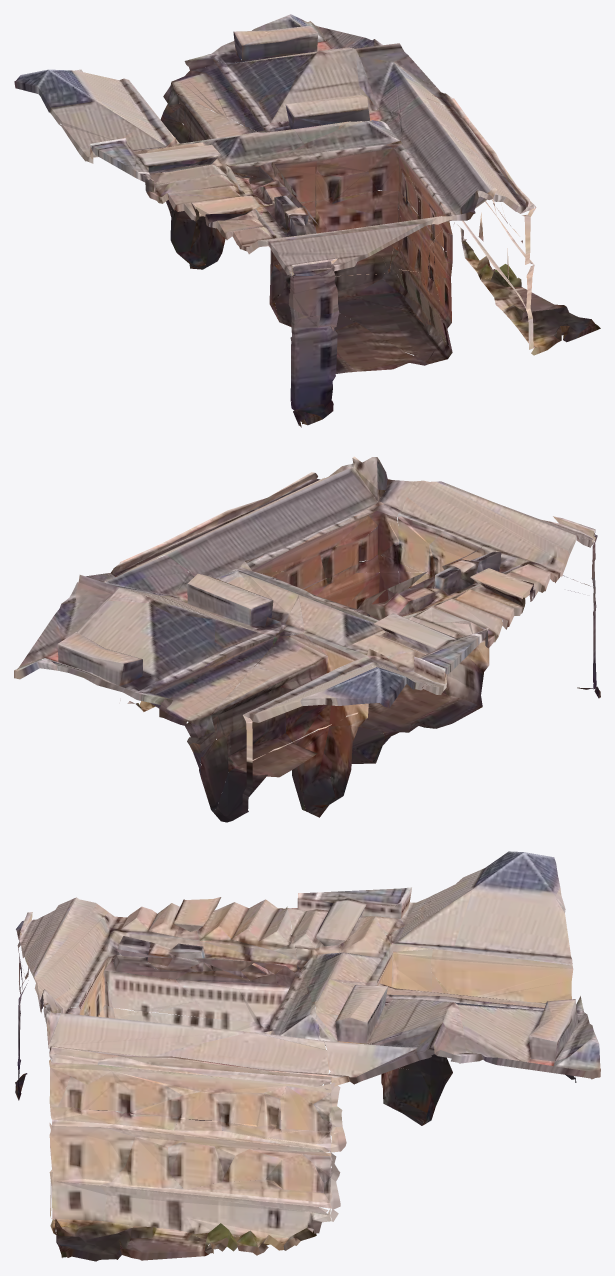
3 renders of one model, top to bottom at view 1: azimuth 30°, elevation 25°; view 2: azimuth 150°, elevation 25°; view 3: azimuth 270°, elevation 25°, orthographic. The views are drawn at different scales.
Parts seen in each view (by area): view 1: Mesh_0; view 2: Mesh_0; view 3: Mesh_0.
Part boxes in pixels (x1,y1,x2,y2): Mesh_0: (14, 14, 600, 427); Mesh_0: (14, 456, 600, 822); Mesh_0: (15, 851, 600, 1261).
Bounding box in the file's own units: 67.16 × 35.05 × 82.47.
Materials: 2 (2 with a texture image).
